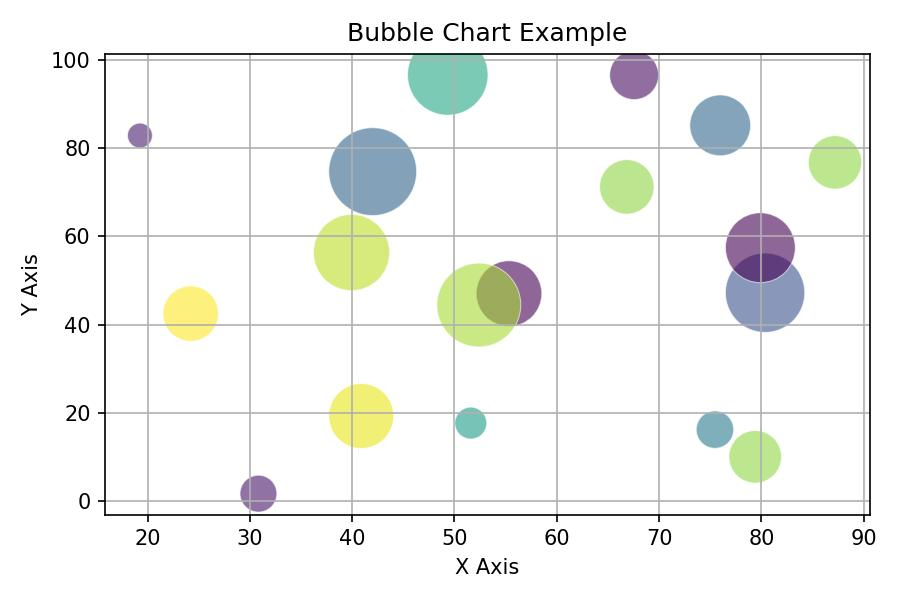axis: (82, 499, 881, 552), (49, 34, 115, 544)
circle: (327, 129, 416, 213), (435, 261, 521, 344), (726, 256, 805, 333), (311, 215, 389, 288), (723, 211, 796, 279), (407, 53, 489, 113), (480, 258, 544, 325), (329, 382, 391, 448), (690, 94, 753, 154), (598, 159, 654, 213), (162, 285, 218, 339), (729, 430, 784, 483), (808, 138, 863, 188), (610, 53, 659, 96), (241, 473, 278, 515), (697, 411, 734, 448), (454, 406, 489, 440), (128, 124, 153, 148)
